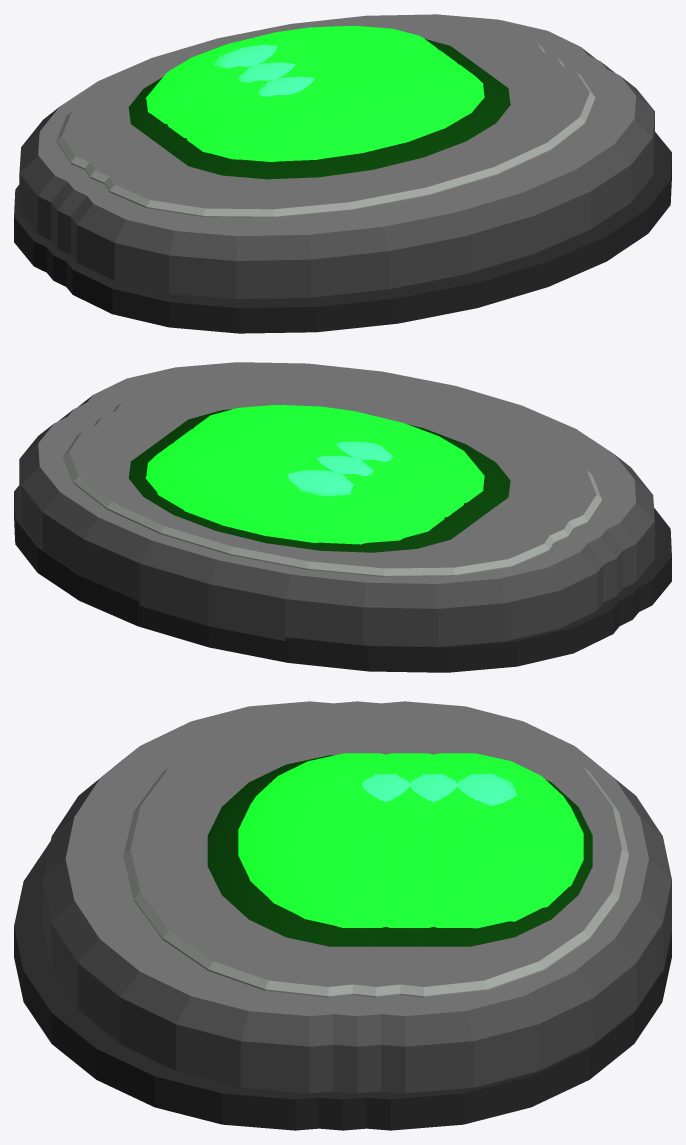
File: newshj-77.glb
3 views of the same model, one above another, from view 1: azimuth 30°, elevation 25°; view 2: azimuth 150°, elevation 25°; view 3: azimuth 270°, elevation 25° (orthographic). The views are drawn at different scales.
Visible parts, largest first — view 1: newshj-77-81, newshj-77, newshj-77-79; view 2: newshj-77, newshj-77-81, newshj-77-79; view 3: newshj-77-81, newshj-77, newshj-77-79.
Part boxes in pixels (box(x1,y1,x2,y2)): newshj-77-81: box(54, 48, 671, 333); newshj-77: box(14, 14, 596, 272); newshj-77-79: box(34, 33, 616, 286); newshj-77: box(14, 396, 632, 672); newshj-77-81: box(78, 362, 671, 611); newshj-77-79: box(57, 376, 652, 625); newshj-77-81: box(14, 701, 464, 1130); newshj-77: box(256, 701, 671, 1130); newshj-77-79: box(116, 701, 540, 1130).
Bounding box in the file's own units: 1.43 × 0.29 × 1.15.
